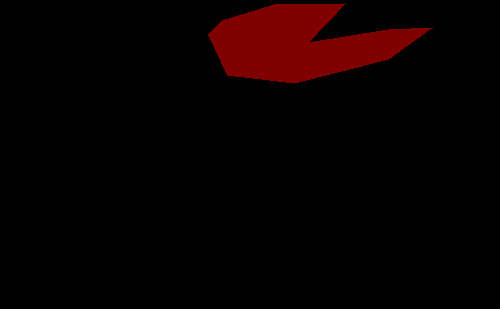fire: (208, 3, 432, 83)
